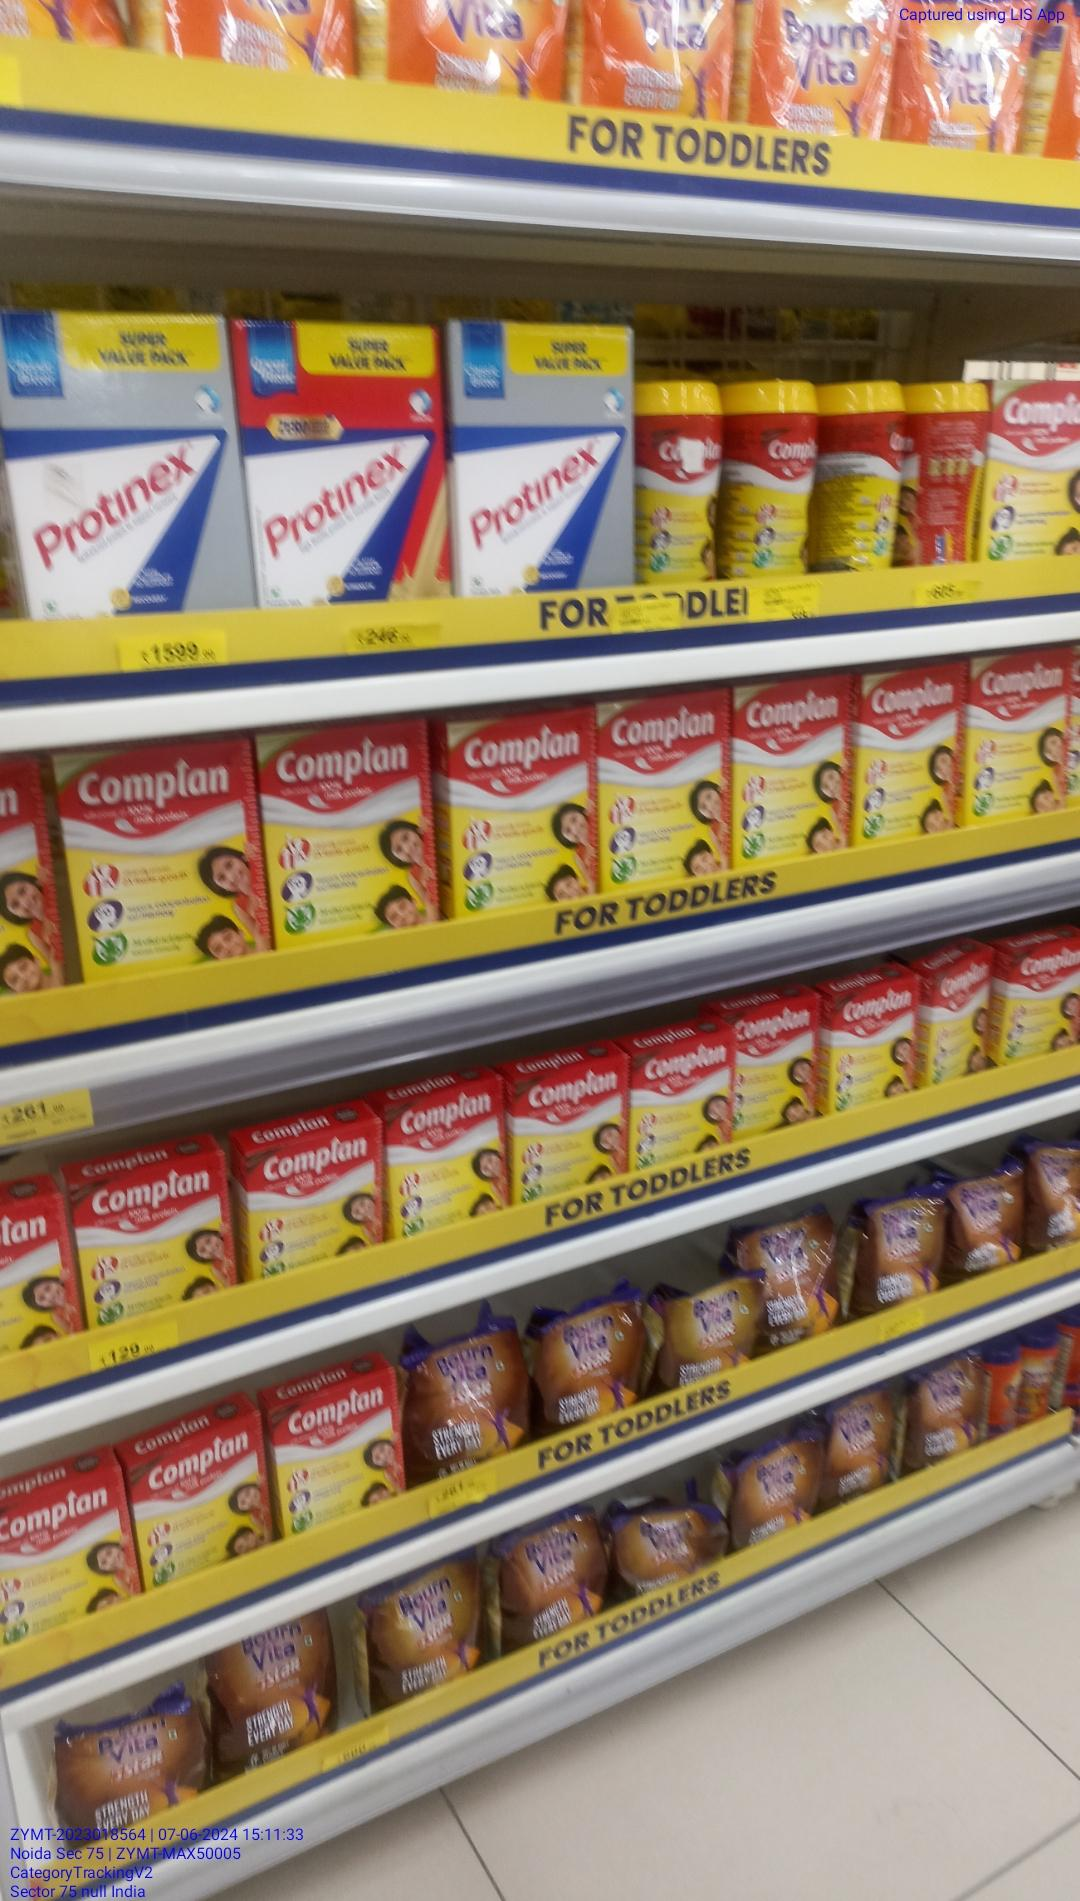BOURN_VITA_FIVE_STAR_MAGIC_500_G_POUCH: (69, 1684, 206, 1844), (411, 1325, 518, 1485), (232, 1606, 337, 1765), (383, 1550, 484, 1703), (539, 1294, 644, 1427), (509, 1522, 606, 1644), (867, 1184, 949, 1308), (764, 1212, 837, 1350), (615, 1491, 717, 1590), (739, 1424, 816, 1550), (665, 1283, 754, 1385), (951, 1158, 1023, 1273), (831, 1389, 900, 1500), (913, 1377, 986, 1465)
